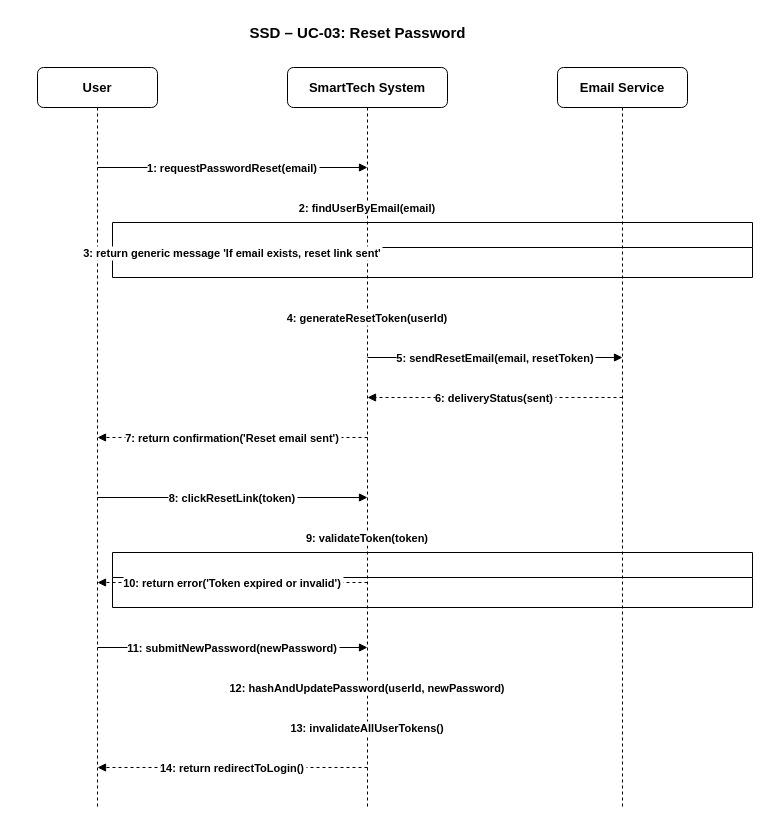
Image size: 770x826. Some labels were removed from this diagram. The centre of each missing label's shape, as x and y in pixels:
alt [email not found]: the point at 432,250
alt [token expired/invalid]: the point at 432,580
